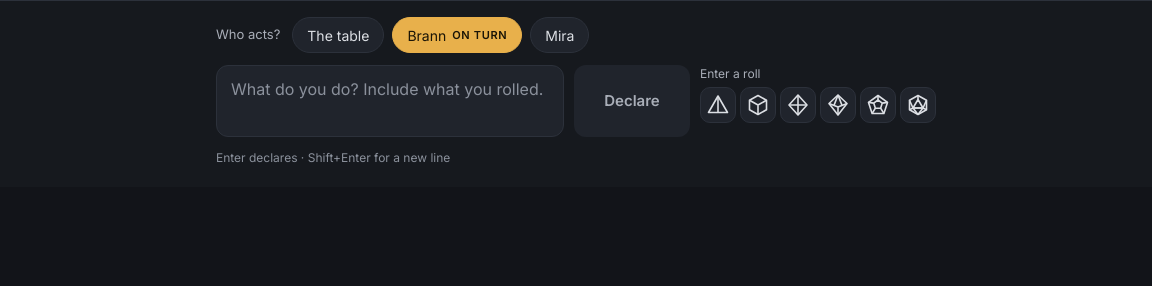
Scenario: ActionForm › starts the dice afresh when someone else is chosen
Click the button named "d20" at (918, 105), box [900,87,936,123]
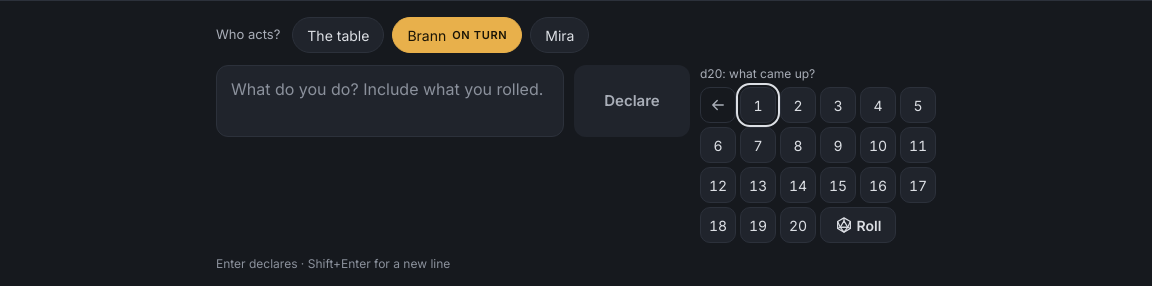
Click the radio button labelled "Mira" at (560, 35), box [530,17,590,53]
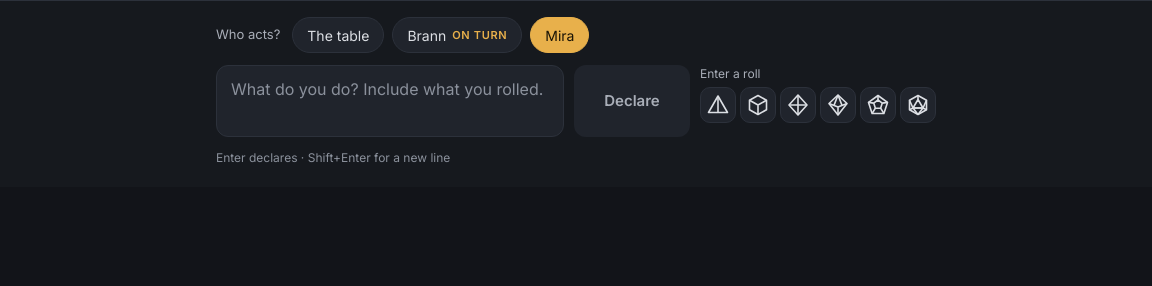
Now the button named "d20" is shown, box [900,87,936,123]
Now the button "14" is gone
